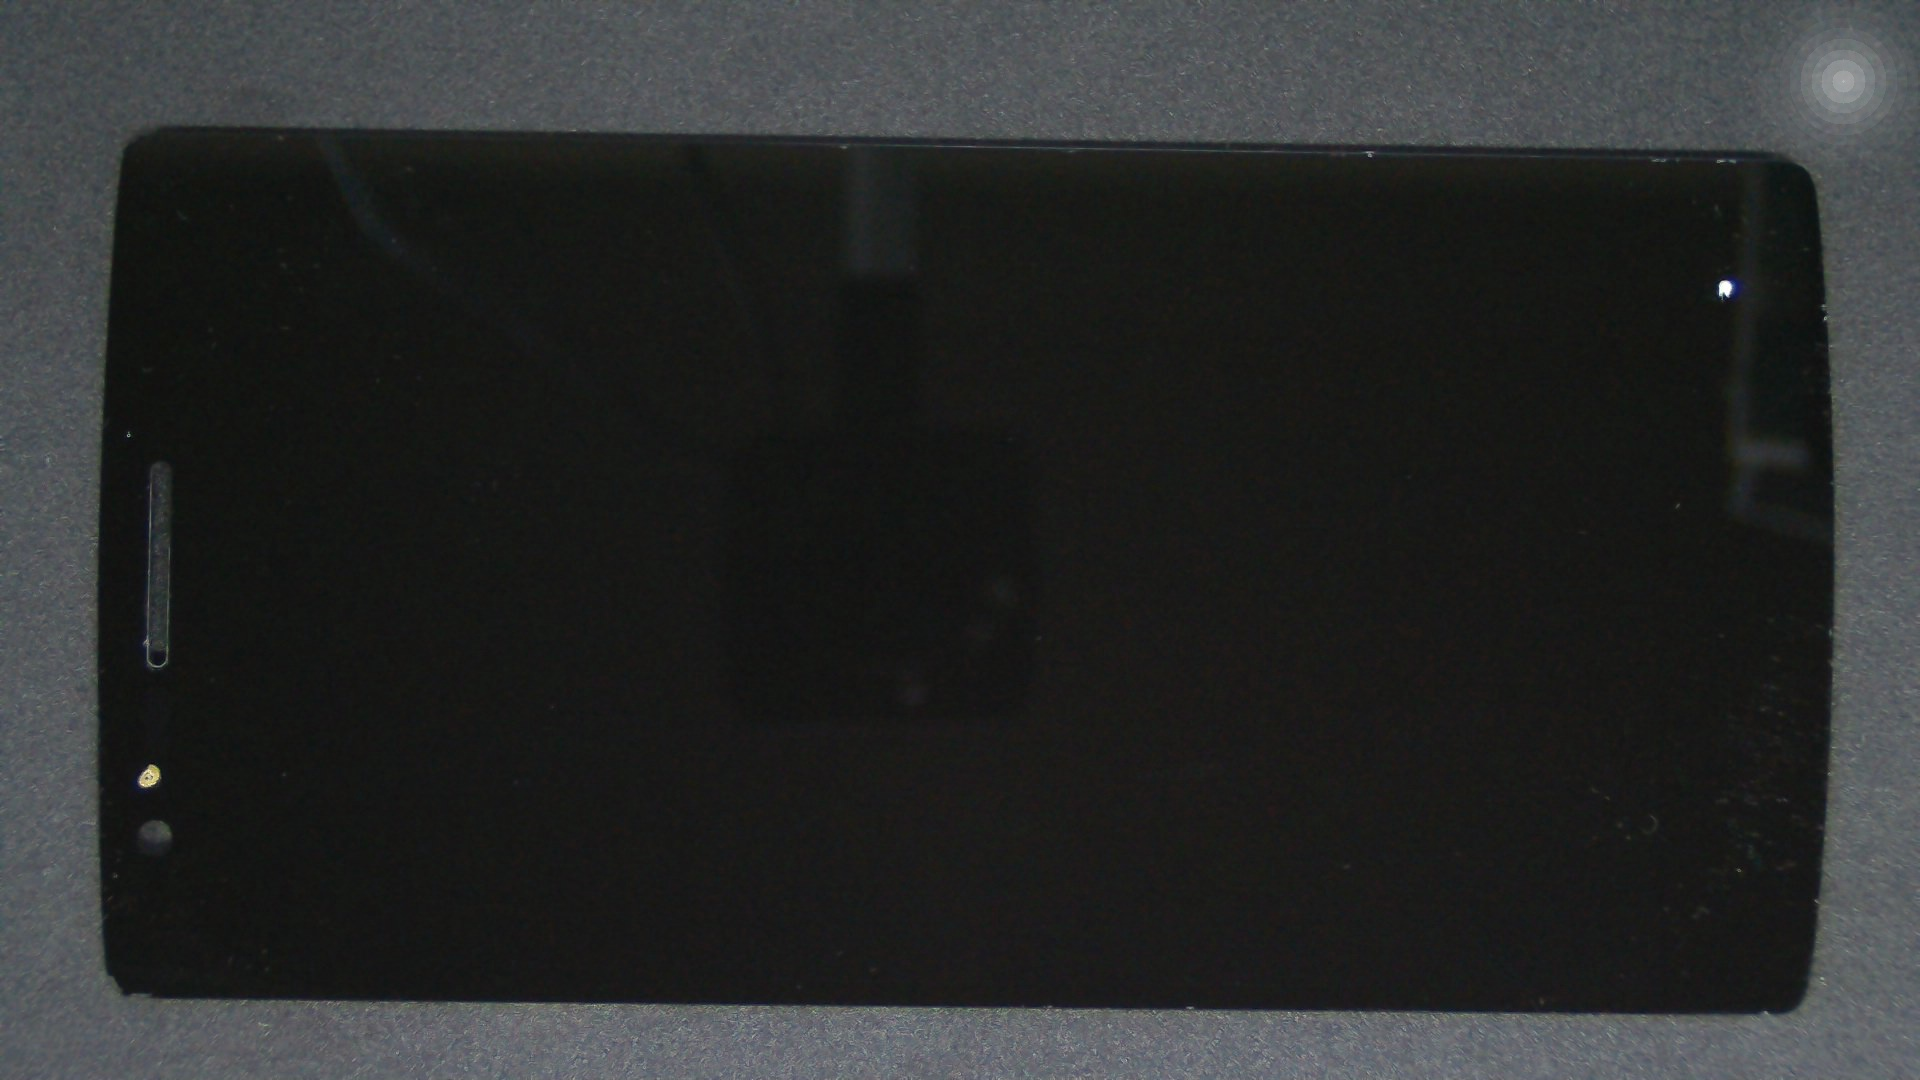oil: (865, 138, 1920, 419), (74, 381, 222, 1080)
